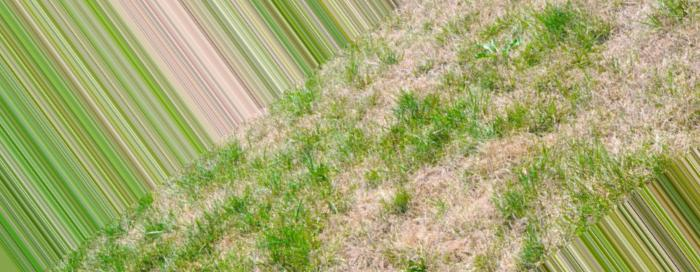patch: (590, 54, 693, 135), (407, 171, 501, 242), (353, 63, 411, 133), (351, 209, 412, 272), (419, 17, 464, 85)
